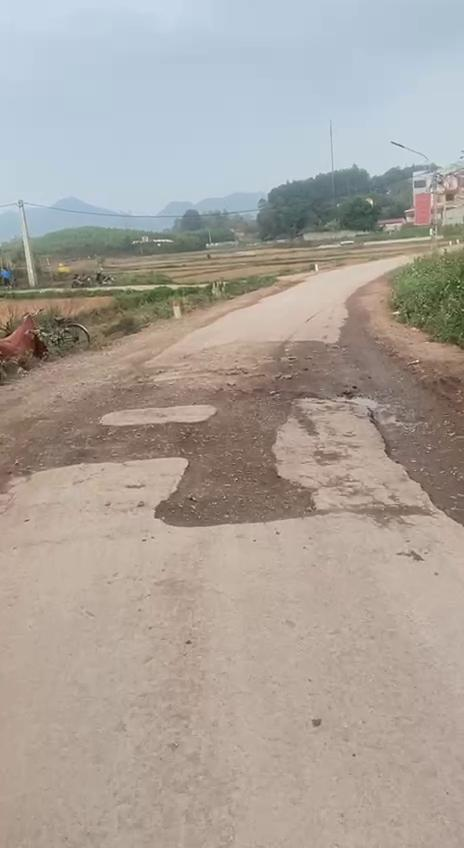pothole: (140, 416, 317, 529)
